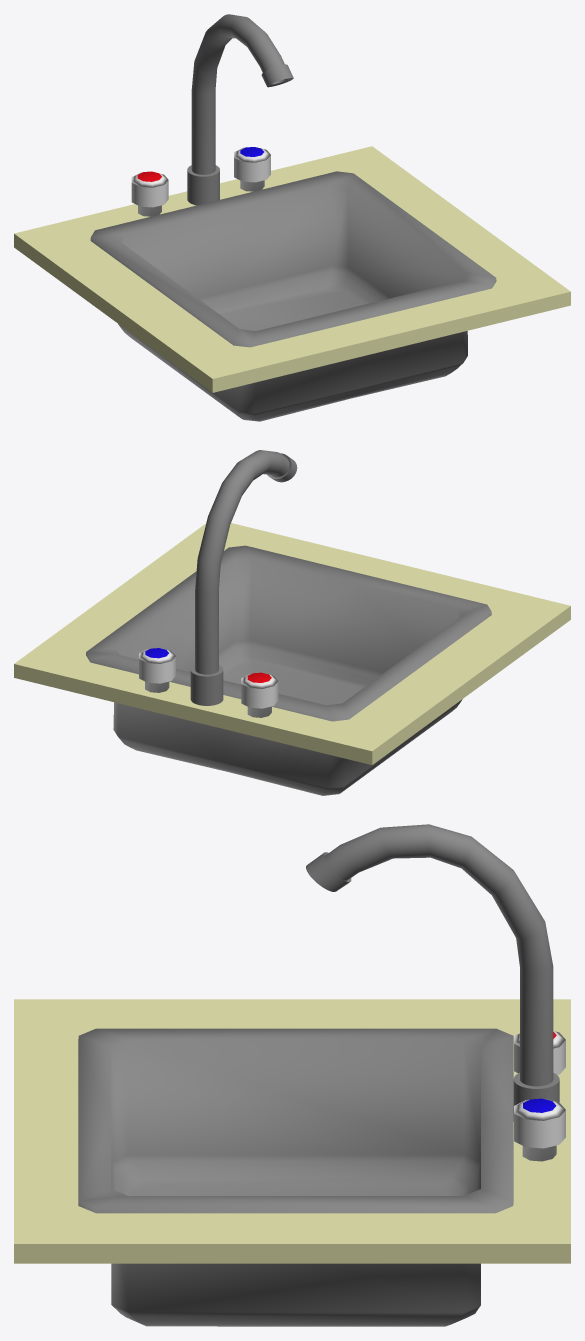
The model's file is Arena.fbx.
The picture shows the model from 3 angles, top to bottom: view 1: azimuth 30°, elevation 25°; view 2: azimuth 150°, elevation 25°; view 3: azimuth 270°, elevation 25°; orthographic projection. The views are drawn at different scales.
Parts seen in each view (by area): view 1: Cube, Cube.001, Cylinder, Cylinder.002, Cylinder.001; view 2: Cube, Cube.001, Cylinder, Cylinder.002, Cylinder.001; view 3: Cube, Cube.001, Cylinder, Cylinder.001, Cylinder.002.
Boxes of the visible parts, box(x1,y1,x2,y2) form: Cube: box(90, 171, 496, 421); Cube.001: box(14, 146, 570, 392); Cylinder: box(187, 14, 293, 205); Cylinder.002: box(131, 171, 168, 216); Cylinder.001: box(234, 147, 270, 191); Cube: box(86, 545, 491, 795); Cube.001: box(14, 523, 570, 764); Cylinder: box(190, 450, 297, 705); Cylinder.002: box(241, 672, 278, 717); Cylinder.001: box(139, 648, 175, 692); Cube: box(78, 1028, 513, 1326); Cube.001: box(14, 999, 570, 1263); Cylinder: box(306, 824, 559, 1121); Cylinder.001: box(514, 1098, 565, 1161); Cylinder.002: box(514, 1031, 565, 1074).
Bounding box in the file's own units: 1734 × 1666 × 1410.
